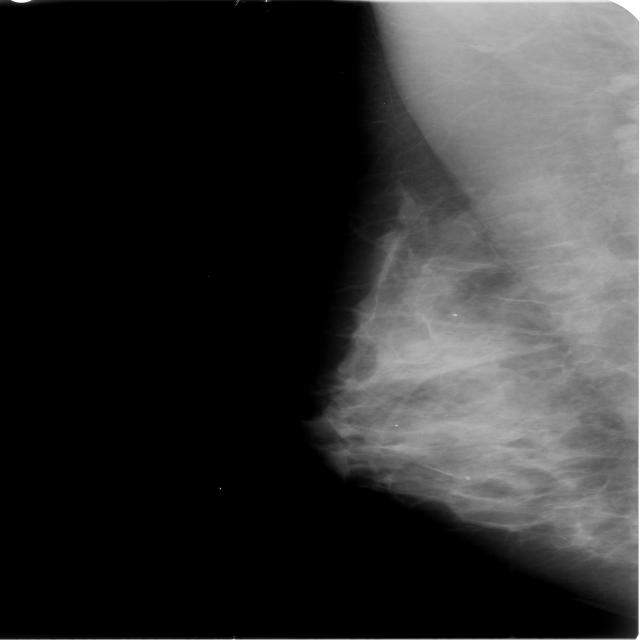normal: (307, 0, 640, 620)
